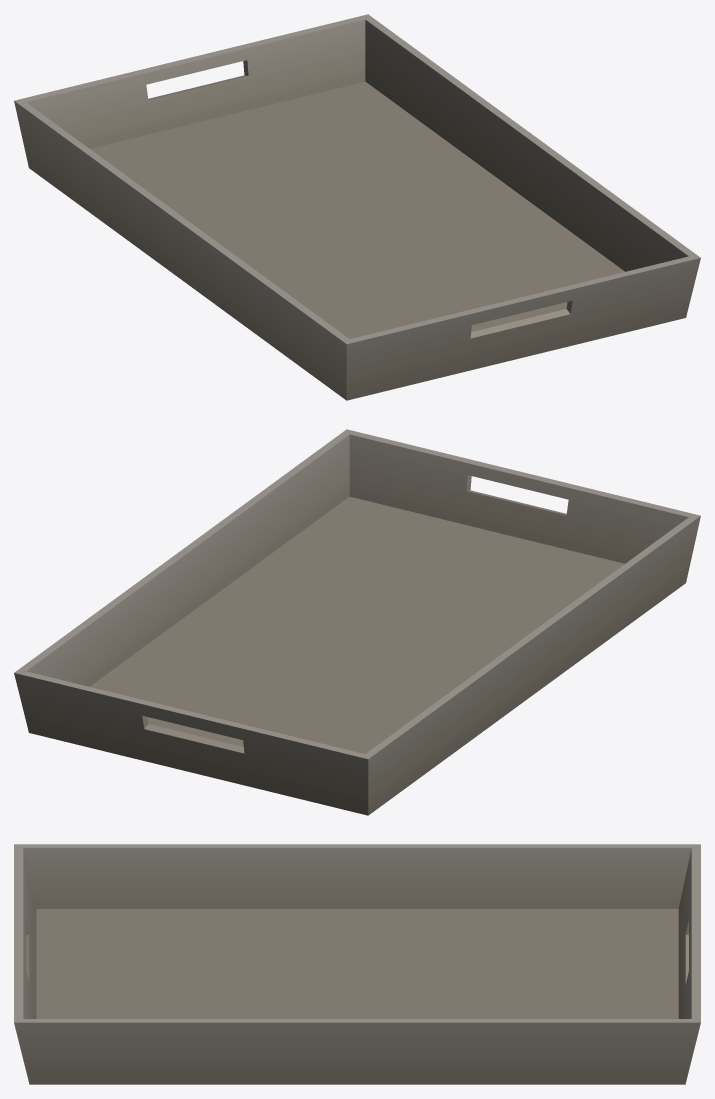
File: FoodProp_4_1_C.fbx
3 views of the same model, one above another, from view 1: azimuth 30°, elevation 25°; view 2: azimuth 150°, elevation 25°; view 3: azimuth 270°, elevation 25° (orthographic). The views are drawn at different scales.
Visible parts, largest first — view 1: FoodProp_4_1_C; view 2: FoodProp_4_1_C; view 3: FoodProp_4_1_C.
Boxes of the visible parts, left/top/right/bottom form: FoodProp_4_1_C: left=14, top=14, right=700, bottom=400; FoodProp_4_1_C: left=14, top=429, right=700, bottom=815; FoodProp_4_1_C: left=14, top=844, right=700, bottom=1084.
Size of the model in its own units: 37.22 by 6.4 by 60.57.
